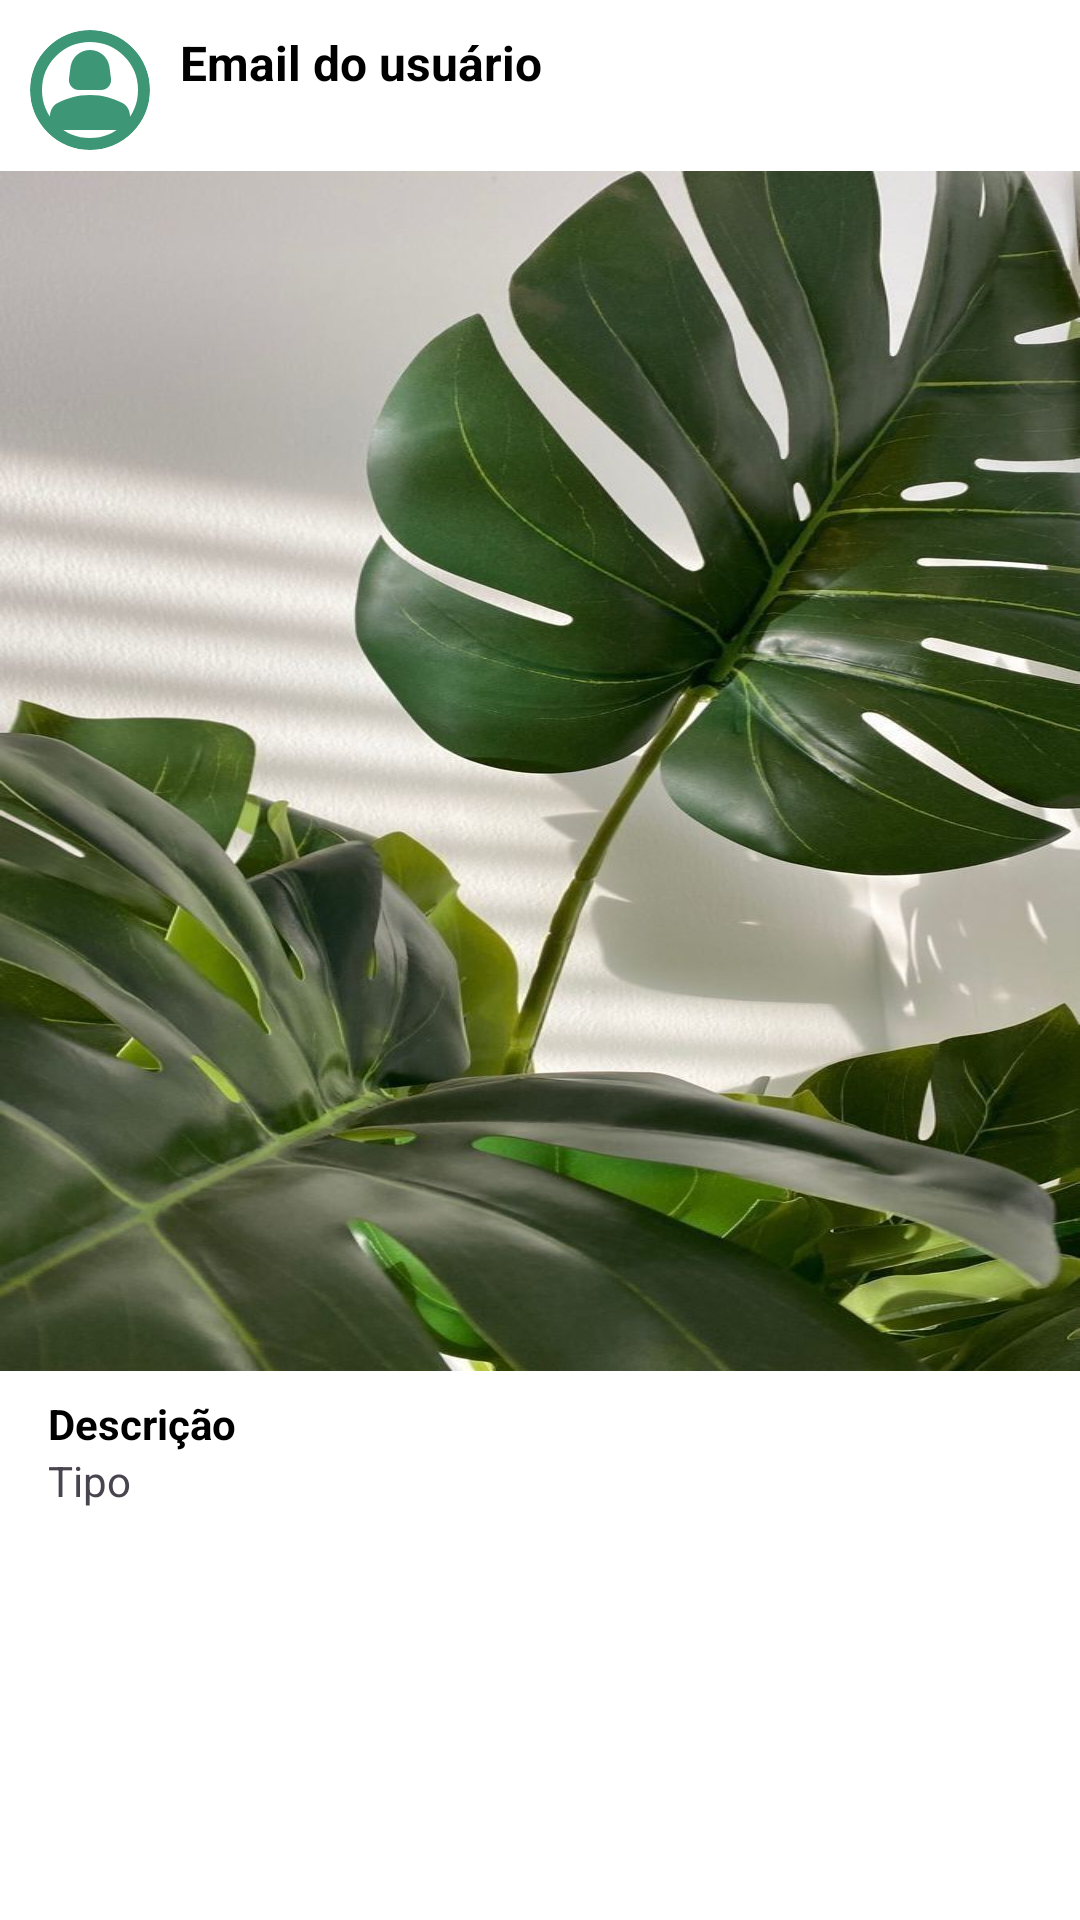

Where icons sit on this 1080 × 1920 app screen, as BBox(x1, y1, x2, y2):
dono post: BBox(30, 30, 150, 150)
